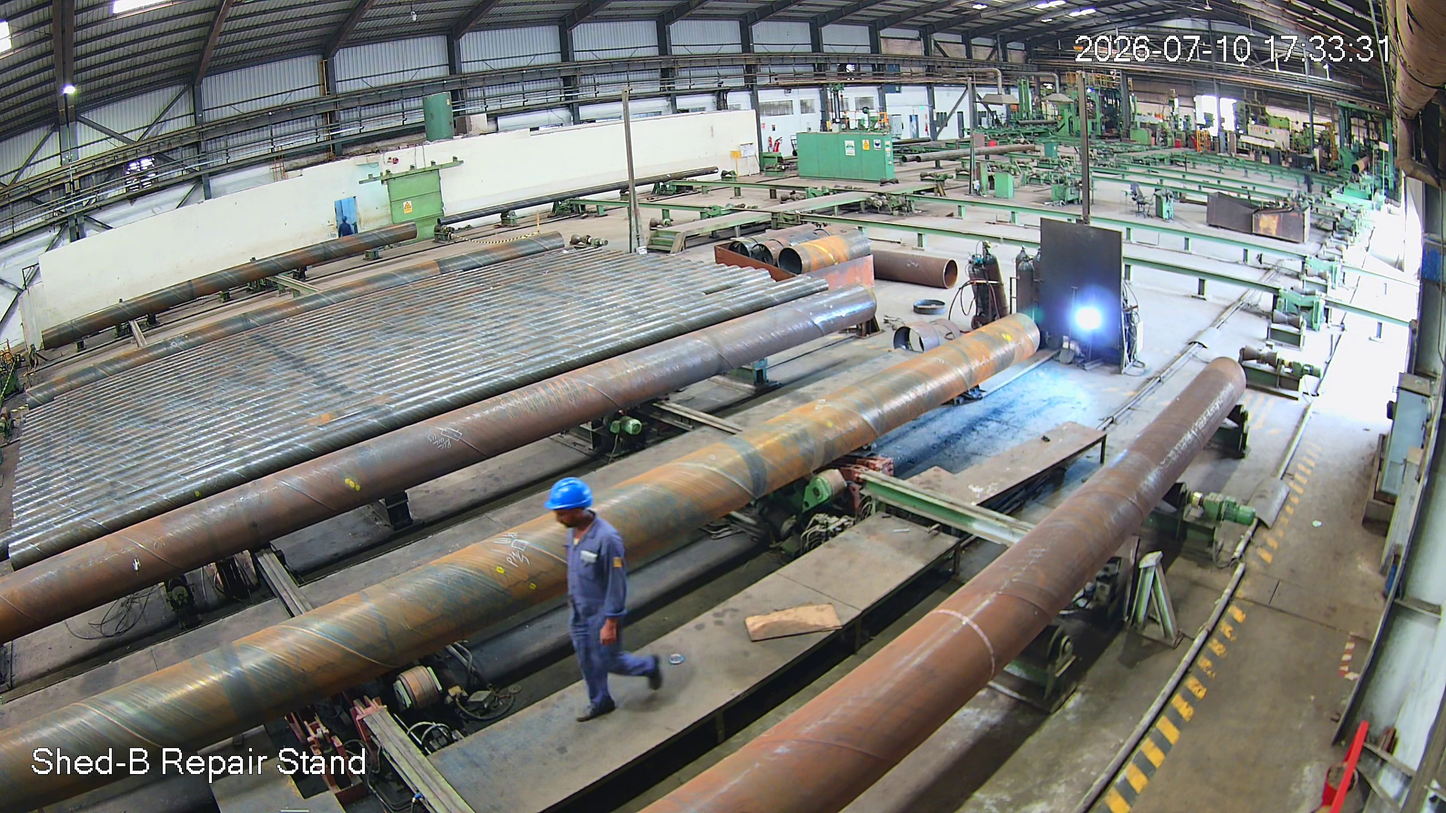Helmet: (542, 473, 602, 541)
Person: (539, 481, 658, 716)
